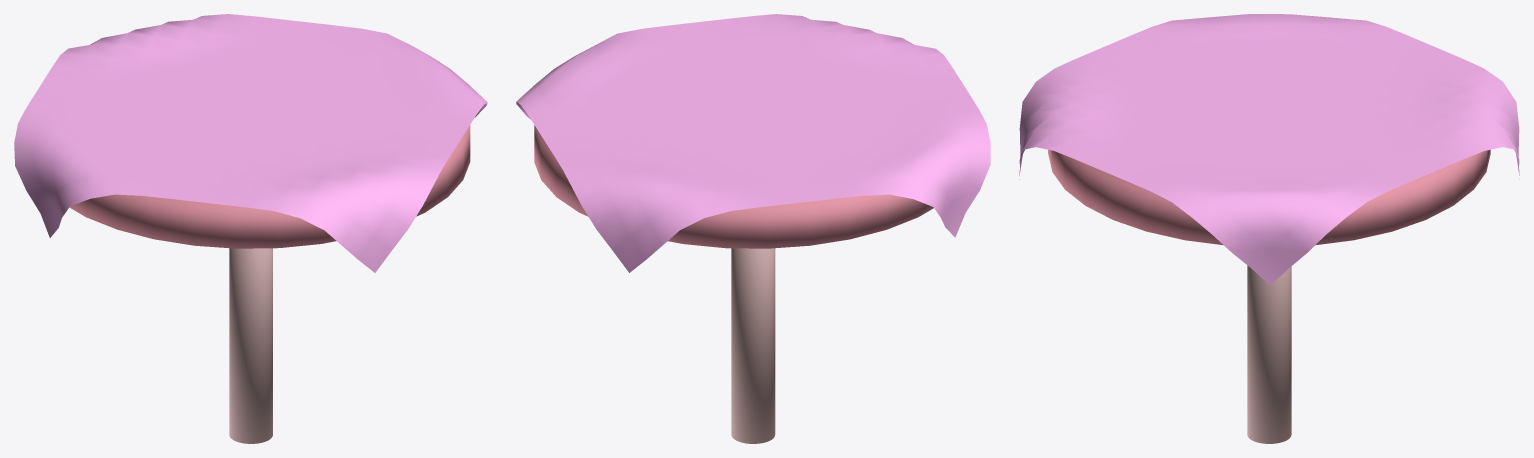
The model's file is Table Detailed.fbx.
3 views of the same model, side by side, from view 1: azimuth 30°, elevation 25°; view 2: azimuth 150°, elevation 25°; view 3: azimuth 270°, elevation 25° (orthographic).
Visible parts, largest first — view 1: Cloth, Table, Stand; view 2: Cloth, Table, Stand; view 3: Cloth, Table, Stand.
Part boxes in pixels (left/top/right/bottom): Cloth: left=14, top=14, right=487, bottom=272; Table: left=69, top=125, right=470, bottom=248; Stand: left=229, top=248, right=272, bottom=443; Cloth: left=516, top=14, right=990, bottom=272; Table: left=534, top=125, right=933, bottom=248; Stand: left=731, top=248, right=775, bottom=443; Cloth: left=1019, top=14, right=1519, bottom=285; Table: left=1048, top=149, right=1490, bottom=245; Stand: left=1247, top=265, right=1291, bottom=443.
Bounding box in the file's own units: 220 × 165 × 226.
